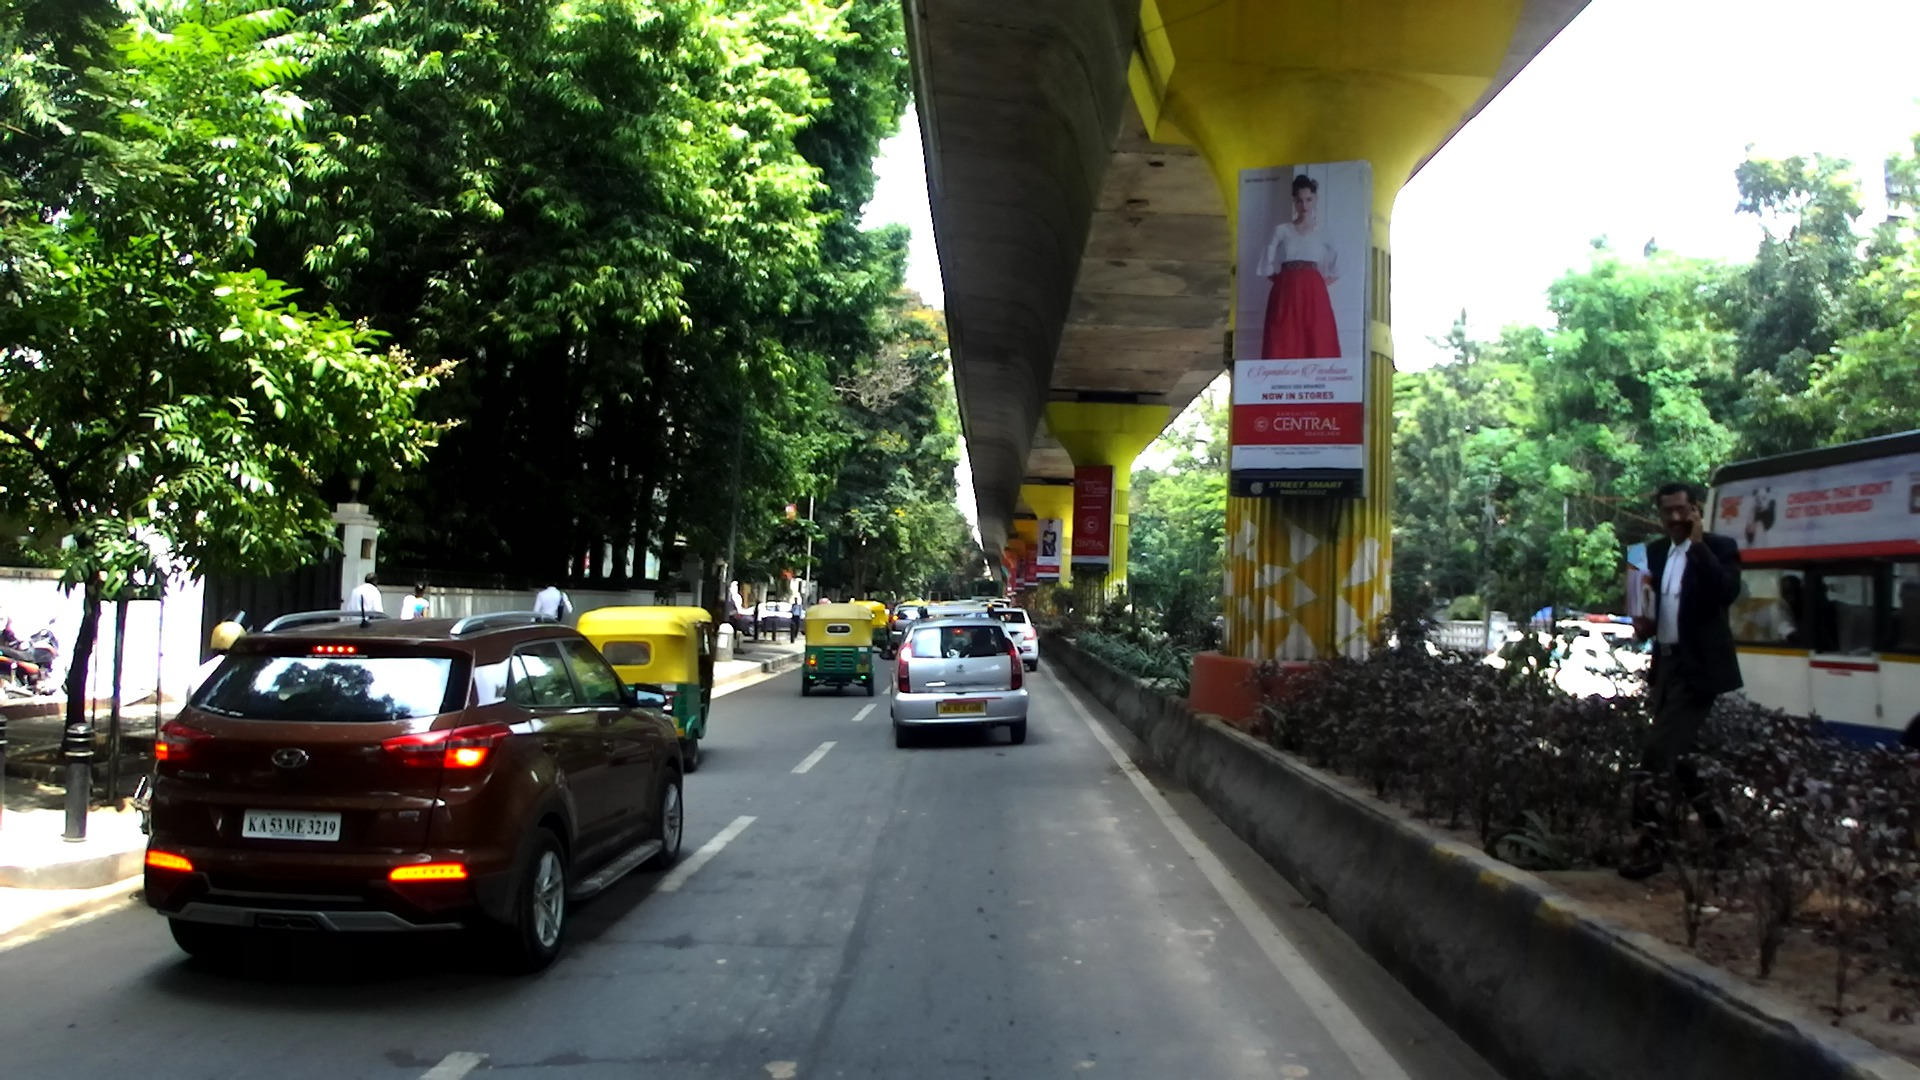autorickshaw: (573, 607, 719, 772), (801, 606, 875, 698), (847, 601, 889, 651), (904, 597, 931, 607)
bus: (1682, 427, 1920, 733)
car: (141, 596, 689, 978), (891, 606, 1030, 747), (1480, 627, 1631, 696), (1591, 619, 1654, 676), (988, 607, 1039, 672), (730, 599, 808, 636), (882, 603, 929, 660), (980, 601, 1007, 609), (988, 599, 1011, 607), (973, 597, 995, 604)
motorcycle: (1, 615, 69, 702)
person: (1617, 481, 1742, 877), (533, 577, 576, 624), (349, 573, 385, 624), (402, 577, 431, 620), (789, 597, 803, 644), (0, 615, 18, 650)
rider: (182, 608, 248, 708), (819, 594, 831, 605)
truck: (971, 577, 1002, 604), (927, 587, 951, 601)
vehicle fallback: (943, 599, 978, 606)
